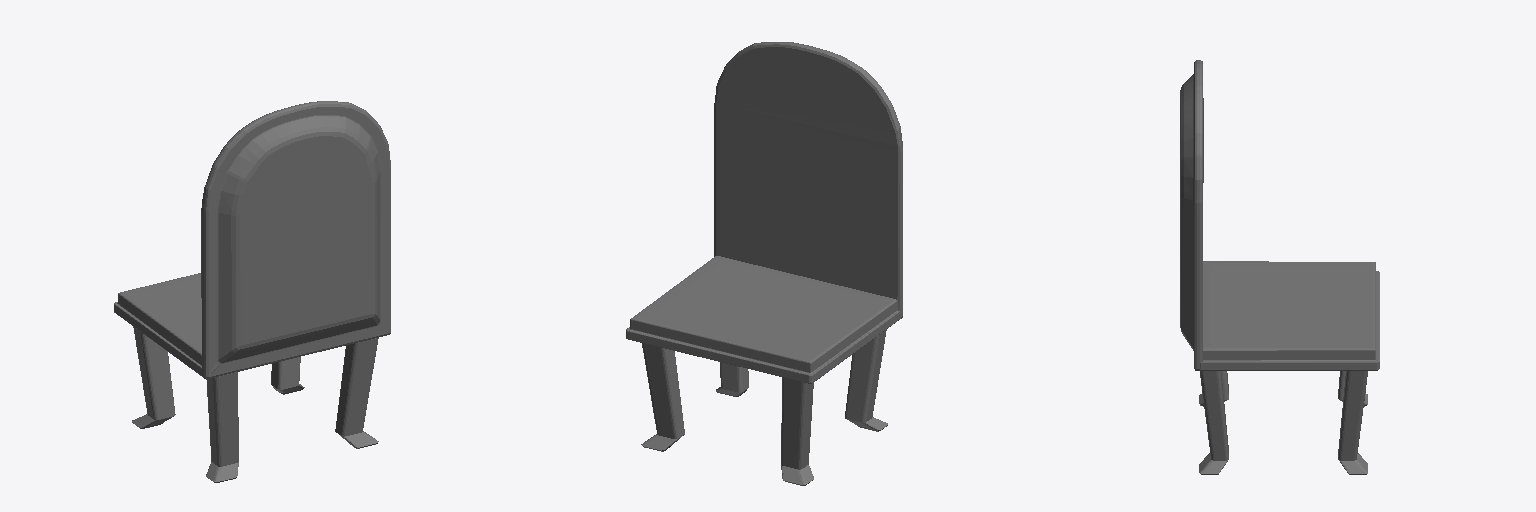
The model's file is Kursi.obj.
3 views of the same model, side by side, from view 1: azimuth 30°, elevation 25°; view 2: azimuth 150°, elevation 25°; view 3: azimuth 270°, elevation 25° (orthographic).
Parts seen in each view (by area): view 1: dudukan_kursi, Kaki_kursi_kanan_blkg1, pCube5; view 2: dudukan_kursi, pCube5, Kaki_kursi_kanan_blkg1; view 3: pCube5, dudukan_kursi, Kaki_kursi_kanan_blkg1.
Boxes of the visible parts, x1,y1,x2,y2 form: dudukan_kursi: [201, 101, 390, 378]; Kaki_kursi_kanan_blkg1: [132, 327, 378, 482]; pCube5: [114, 273, 202, 376]; dudukan_kursi: [714, 42, 902, 318]; pCube5: [626, 256, 900, 383]; Kaki_kursi_kanan_blkg1: [641, 329, 887, 485]; pCube5: [1200, 261, 1379, 370]; dudukan_kursi: [1180, 60, 1203, 370]; Kaki_kursi_kanan_blkg1: [1199, 371, 1367, 474].
Size of the model in its own units: 2.95 by 5.42 by 2.73.